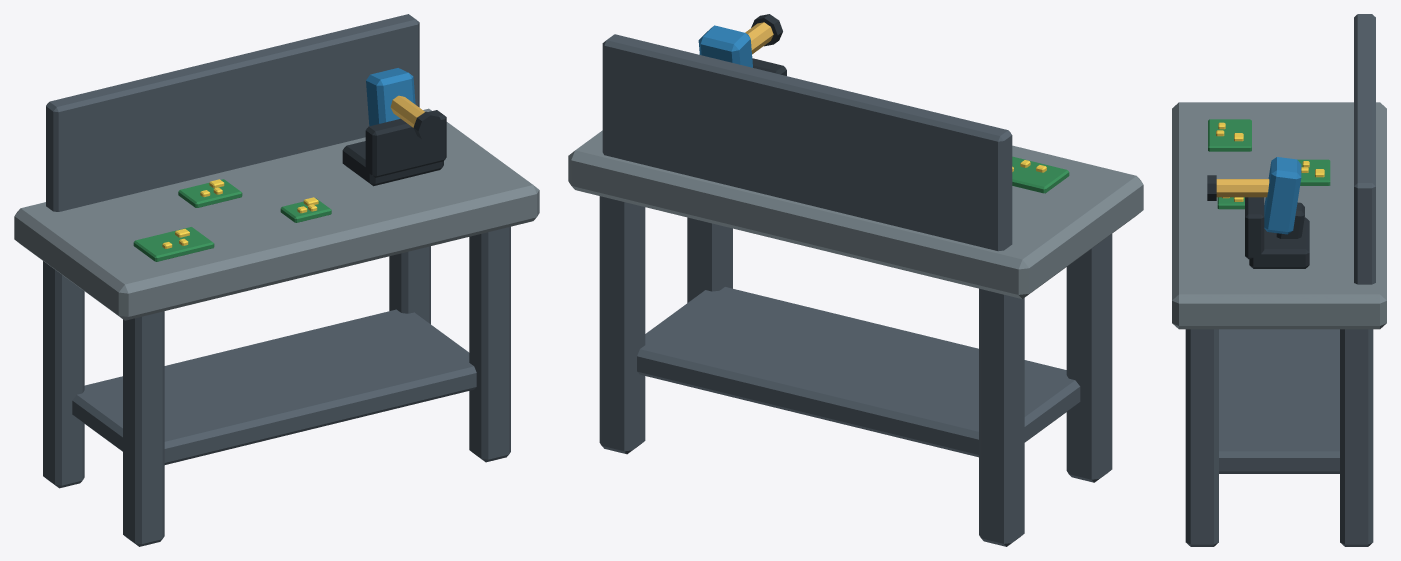
File: WeldingWorkbench.glb
3 renders of one model, left to right at view 1: azimuth 30°, elevation 25°; view 2: azimuth 150°, elevation 25°; view 3: azimuth 270°, elevation 25°, orthographic. The views are drawn at different scales.
Visible parts, largest first — view 1: BenchTop, BenchBackRail, BenchLowerShelf, BenchLeg, BenchLeg.002, BenchLeg.001, WelderCradleStop, BenchLeg.003, WeldingGunBody, LooseCircuitBoard_00, WelderCradle, LooseCircuitBoard_01 (+2 smaller); view 2: BenchBackRail, BenchLowerShelf, BenchTop, BenchLeg.003, BenchLeg.001, BenchLeg, BenchLeg.002, WeldingGunBody, LooseCircuitBoard_00; view 3: BenchTop, BenchLowerShelf, BenchLeg.002, BenchLeg.003, BenchBackRail, WeldingGunBody, WelderCradle, LooseCircuitBoard_00, WelderCradleStop, WeldingGunNozzle, LooseCircuitBoard_01, WeldingGunGrip (+1 smaller).
Boxes of the visible parts, x1,y1,x2,y2 form: BenchTop: (14, 108, 539, 320); BenchBackRail: (46, 14, 419, 211); BenchLowerShelf: (72, 309, 476, 464); BenchLeg: (123, 311, 164, 546); BenchLeg.002: (469, 226, 510, 462); BenchLeg.001: (43, 261, 84, 488); WelderCradleStop: (365, 110, 446, 177); BenchLeg.003: (389, 246, 430, 324); WeldingGunBody: (366, 68, 415, 126); LooseCircuitBoard_00: (133, 227, 214, 261); WelderCradle: (342, 141, 443, 186); LooseCircuitBoard_01: (178, 179, 242, 207); BenchBackRail: (602, 34, 1012, 251); BenchLowerShelf: (637, 287, 1080, 457); BenchTop: (568, 130, 1143, 298); BenchLeg.003: (599, 196, 645, 454); BenchLeg.001: (979, 288, 1024, 546); BenchLeg: (1066, 234, 1112, 482); BenchLeg.002: (687, 217, 732, 302); WeldingGunBody: (698, 25, 752, 67); LooseCircuitBoard_00: (1012, 156, 1069, 193); BenchTop: (1172, 102, 1386, 329); BenchLowerShelf: (1219, 329, 1339, 473); BenchLeg.002: (1185, 329, 1218, 546); BenchLeg.003: (1340, 329, 1373, 546); BenchBackRail: (1354, 14, 1375, 284); WeldingGunBody: (1264, 157, 1301, 234); WelderCradle: (1249, 217, 1309, 268); LooseCircuitBoard_00: (1208, 119, 1251, 151); WelderCradleStop: (1245, 197, 1264, 259); WeldingGunNozzle: (1216, 179, 1269, 197); LooseCircuitBoard_01: (1297, 159, 1330, 185); WeldingGunGrip: (1276, 202, 1304, 238).
Bounding box in the file's own units: 1.7 × 1.45 × 0.78.
